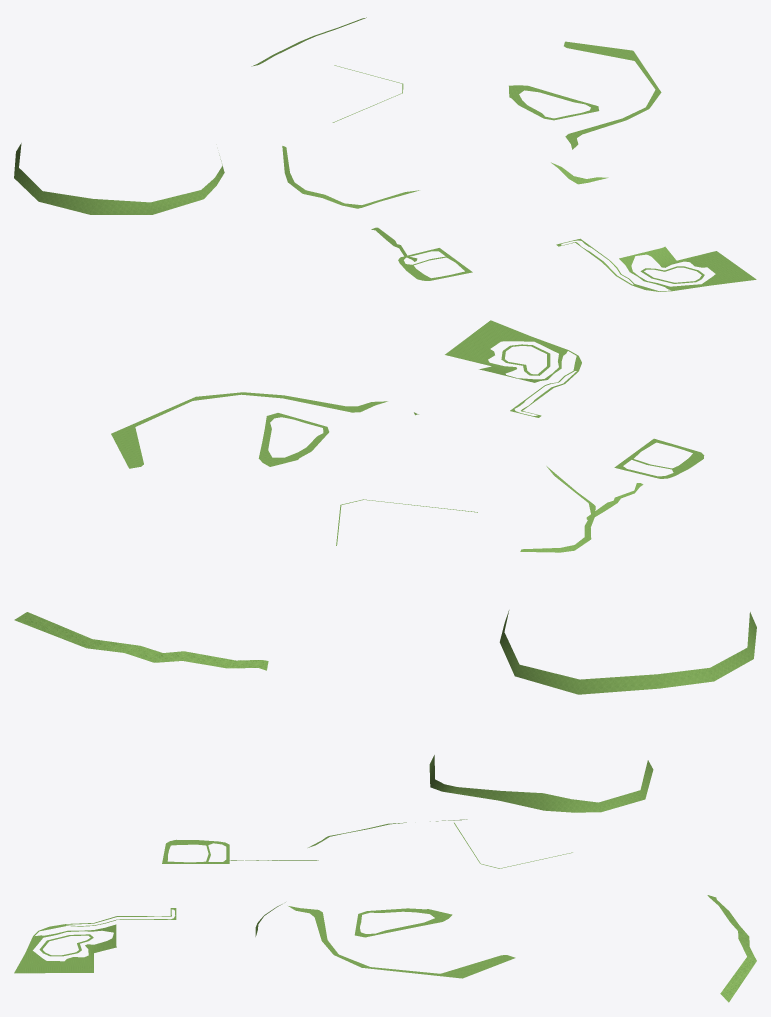
Rendered from kd_stage_1364a3_11_13.glb.
3 views of the same model, one above another, from view 1: azimuth 30°, elevation 25°; view 2: azimuth 150°, elevation 25°; view 3: azimuth 270°, elevation 25° (orthographic). The views are drawn at different scales.
Visible parts, largest first — view 1: kd_stage_1364a3_11_13; view 2: kd_stage_1364a3_11_13; view 3: kd_stage_1364a3_11_13.
Part boxes in pixels (x1,y1,x2,y2): kd_stage_1364a3_11_13: (14, 17, 756, 291); kd_stage_1364a3_11_13: (14, 320, 756, 694); kd_stage_1364a3_11_13: (14, 755, 756, 1002).
Bounding box in the file's own units: 197 × 17.72 × 220.
1 material, 1 textured.
